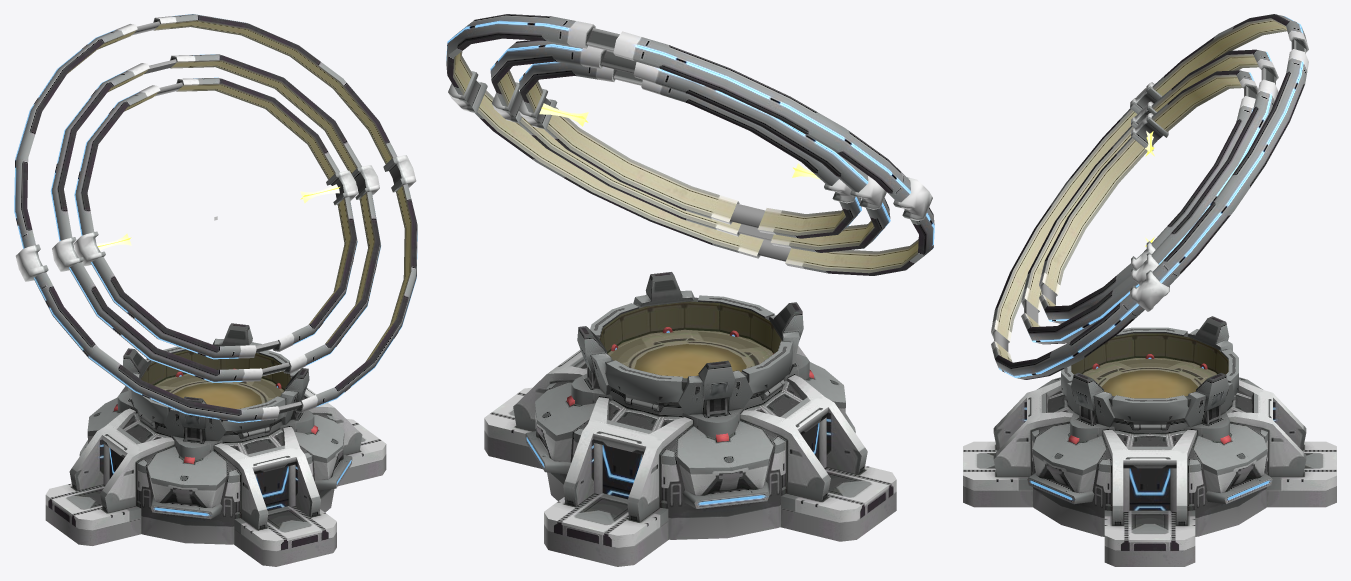
3 renders of one model, left to right at view 1: azimuth 30°, elevation 25°; view 2: azimuth 150°, elevation 25°; view 3: azimuth 270°, elevation 25°, orthographic. The views are drawn at different scales.
Parts seen in each view (by area): view 1: fusion-reactor; view 2: fusion-reactor; view 3: fusion-reactor.
Boxes of the visible parts, box(x1,y1,x2,y2) form: fusion-reactor: box(14, 14, 417, 566); fusion-reactor: box(446, 14, 934, 566); fusion-reactor: box(963, 14, 1336, 566).
Bounding box in the file's own units: 8.8 × 9.2 × 7.
2 materials, 1 textured.
